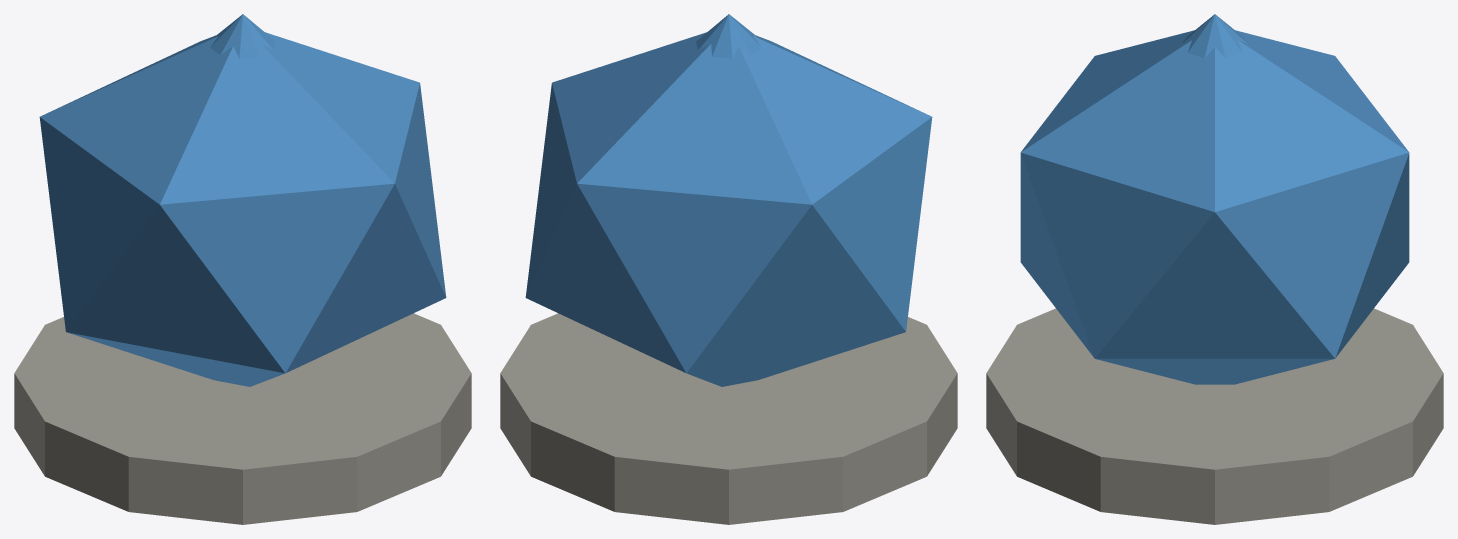
File: agua_marcador.glb
3 views of the same model, side by side, from view 1: azimuth 30°, elevation 25°; view 2: azimuth 150°, elevation 25°; view 3: azimuth 270°, elevation 25° (orthographic).
Visible parts, largest first — view 1: agua_marcador; view 2: agua_marcador; view 3: agua_marcador.
Part boxes in pixels (x1,y1,x2,y2): agua_marcador: (14, 14, 471, 524); agua_marcador: (500, 14, 957, 524); agua_marcador: (986, 14, 1443, 524).
Size of the model in its own units: 1.5 by 1.5 by 1.5.
